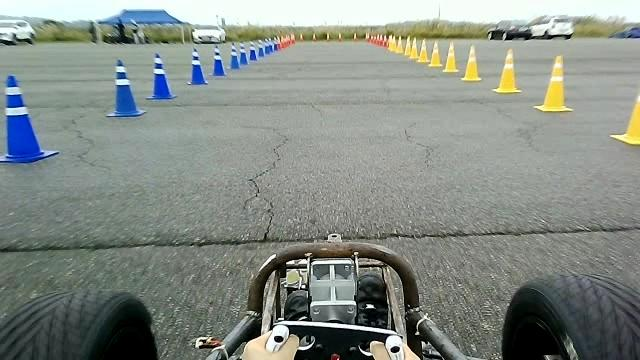blue cone: (0, 74, 59, 163), (105, 58, 146, 117), (146, 52, 178, 100), (186, 46, 208, 84), (208, 45, 226, 77), (228, 42, 240, 69)
yellow cone: (532, 55, 572, 113), (491, 48, 522, 93), (460, 44, 481, 81), (442, 41, 459, 72), (428, 40, 442, 66), (416, 38, 430, 62)
